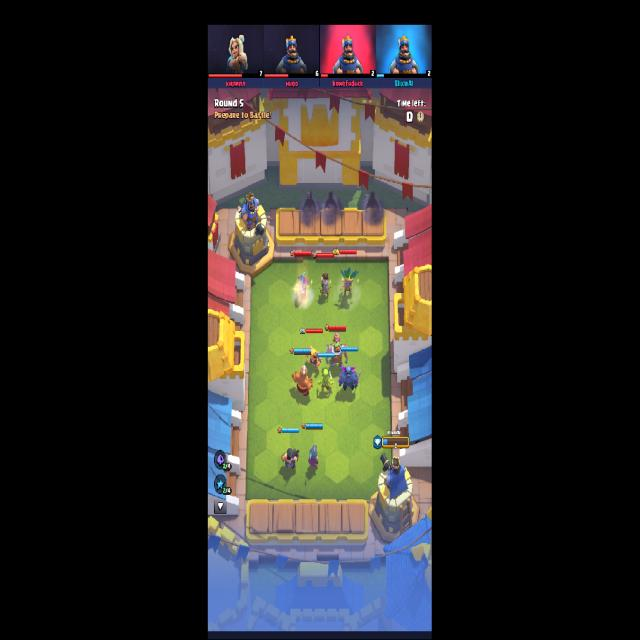barbarian: (304, 344, 322, 371)
dart_goblin: (338, 266, 358, 298)
executioner: (282, 448, 298, 470)
goblin: (317, 370, 334, 394)
goblin_machine: (326, 332, 347, 368)
monk: (292, 365, 313, 396)
musketeer: (297, 272, 309, 299), (308, 445, 320, 469)
pekka: (338, 366, 361, 391)
princess: (319, 272, 331, 299)
